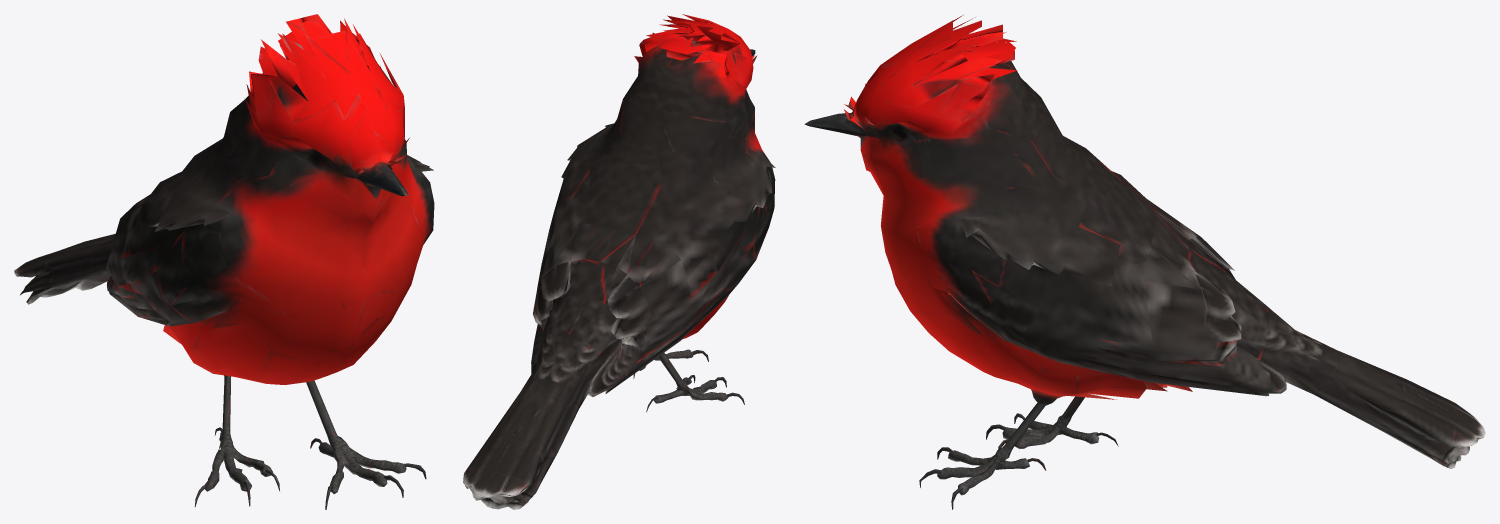
File: Meshy_AI_Scarlet_Bird_Lowpoly_1012031155_texture.glb
3 renders of one model, left to right at view 1: azimuth 30°, elevation 25°; view 2: azimuth 150°, elevation 25°; view 3: azimuth 270°, elevation 25°, orthographic. The views are drawn at different scales.
Parts seen in each view (by area): view 1: mesh_0; view 2: mesh_0; view 3: mesh_0.
Part boxes in pixels (left/top/right/bottom): mesh_0: left=14, top=14, right=434, bottom=509; mesh_0: left=463, top=14, right=775, bottom=509; mesh_0: left=804, top=15, right=1485, bottom=509.
Bounding box in the file's own units: 0.3979 × 0.687 × 0.9565.
Materials: 1 (1 with a texture image).
